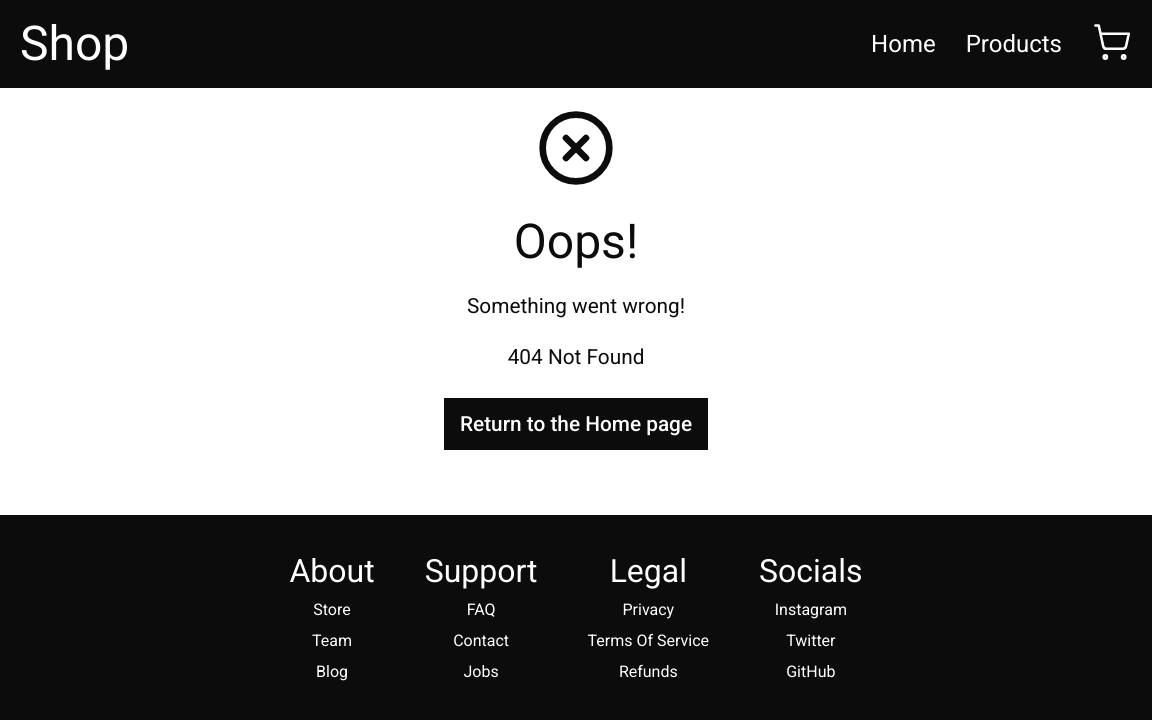
Error Page component › Switches route to Root when clicking return to Home link
Expected: the heading "Something went wrong!" is shown, x1=467 y1=296 x2=685 y2=317
Click the link "Return to the Home page" at (576, 424), box x1=444 y1=398 x2=708 y2=450
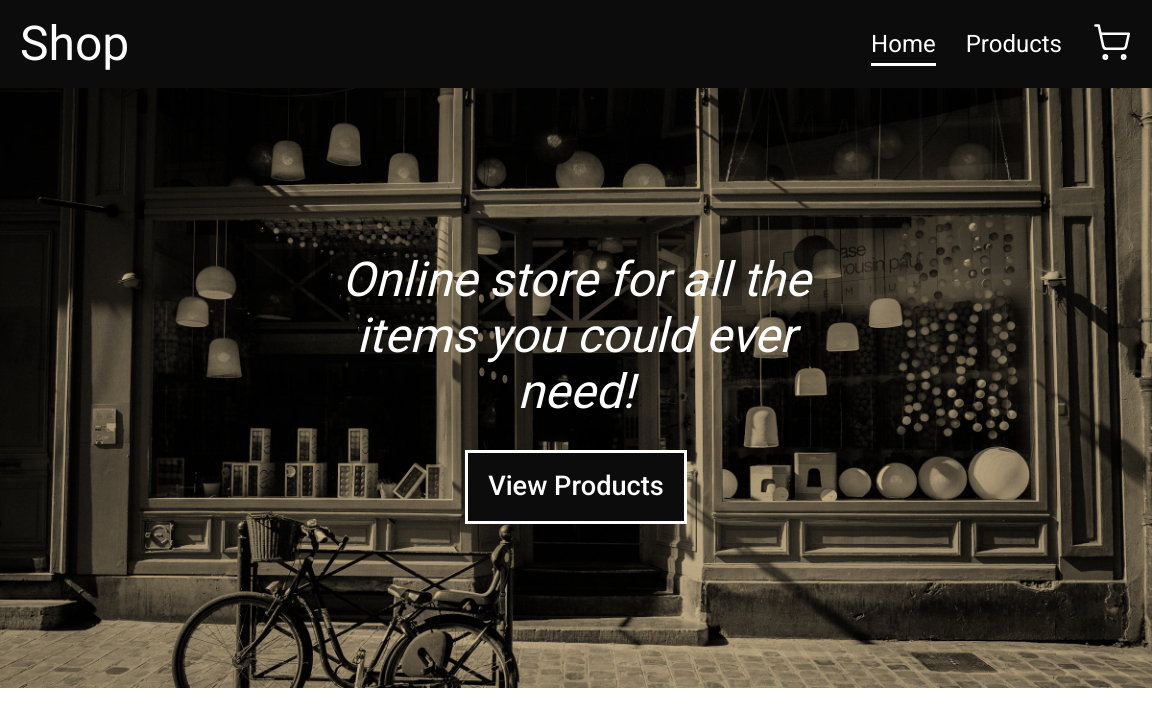
Now the heading "Online store for all the items you could ever need!" is shown, box x1=326 y1=252 x2=826 y2=420
